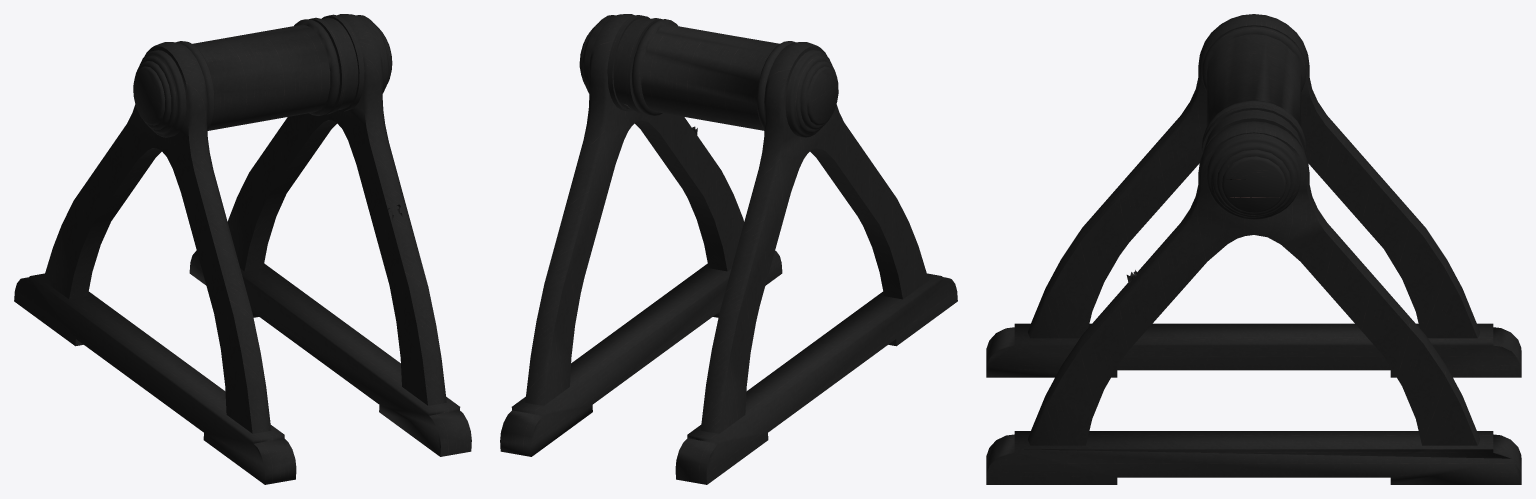
The model's file is Ship Wheel Stat (1).fbx.
3 renders of one model, left to right at view 1: azimuth 30°, elevation 25°; view 2: azimuth 150°, elevation 25°; view 3: azimuth 270°, elevation 25°, orthographic. The views are drawn at different scales.
Parts seen in each view (by area): view 1: Ship_Wheel_Stat; view 2: Ship_Wheel_Stat; view 3: Ship_Wheel_Stat.
Boxes of the visible parts, x1,y1,x2,y2 form: Ship_Wheel_Stat: (14, 14, 471, 484); Ship_Wheel_Stat: (500, 14, 957, 484); Ship_Wheel_Stat: (986, 14, 1521, 484).
Size of the model in its own units: 27.7 by 39.15 by 50.06.
Materials: 1 (1 with a texture image).
